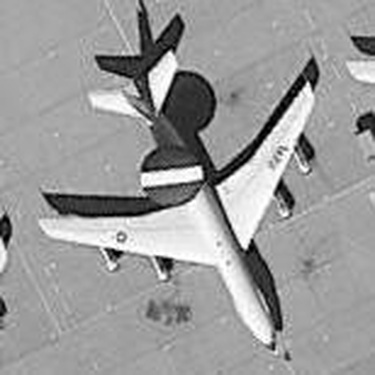airplane: (23, 24, 334, 356), (338, 43, 374, 105), (1, 208, 17, 290)
